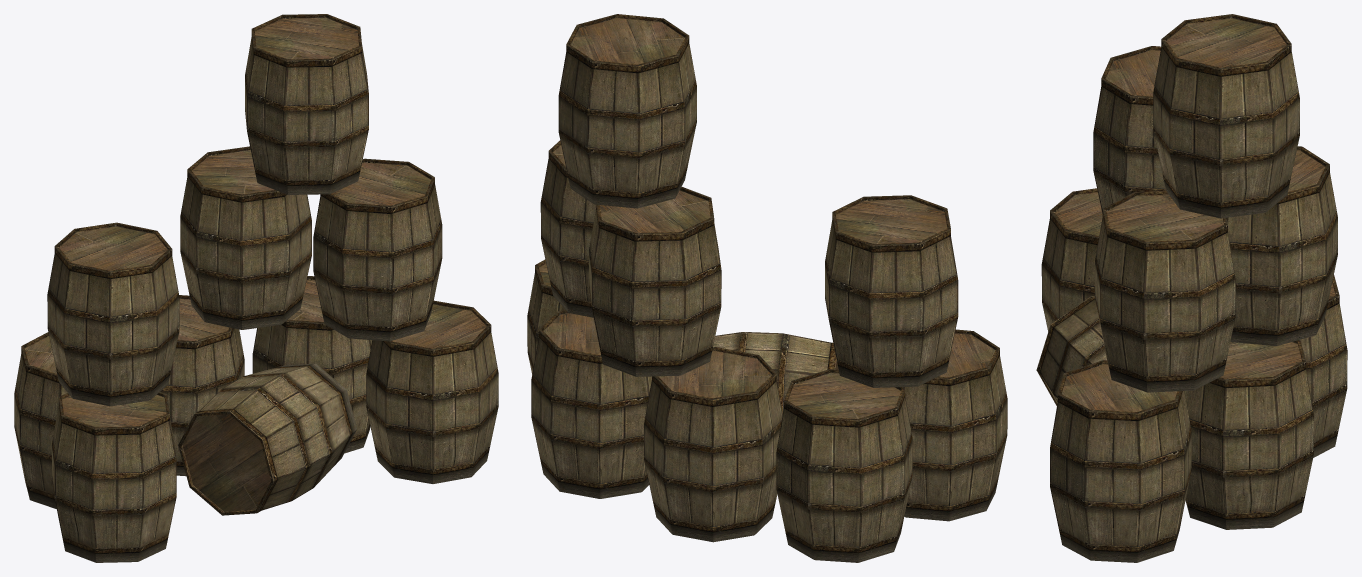
File: Stacked_Barrels_232.obj
3 renders of one model, left to right at view 1: azimuth 30°, elevation 25°; view 2: azimuth 150°, elevation 25°; view 3: azimuth 270°, elevation 25°, orthographic. The views are drawn at different scales.
Visible parts, largest first — view 1: Stacked_Barrels_232_232; view 2: Stacked_Barrels_232_232; view 3: Stacked_Barrels_232_232.
Part boxes in pixels (box(x1,y1,x2,y2)): Stacked_Barrels_232_232: box(14, 14, 498, 562); Stacked_Barrels_232_232: box(527, 14, 1007, 562); Stacked_Barrels_232_232: box(1036, 14, 1347, 562).
Bounding box in the file's own units: 0.4996 × 0.4509 × 0.2792.
3 materials, 3 textured.
